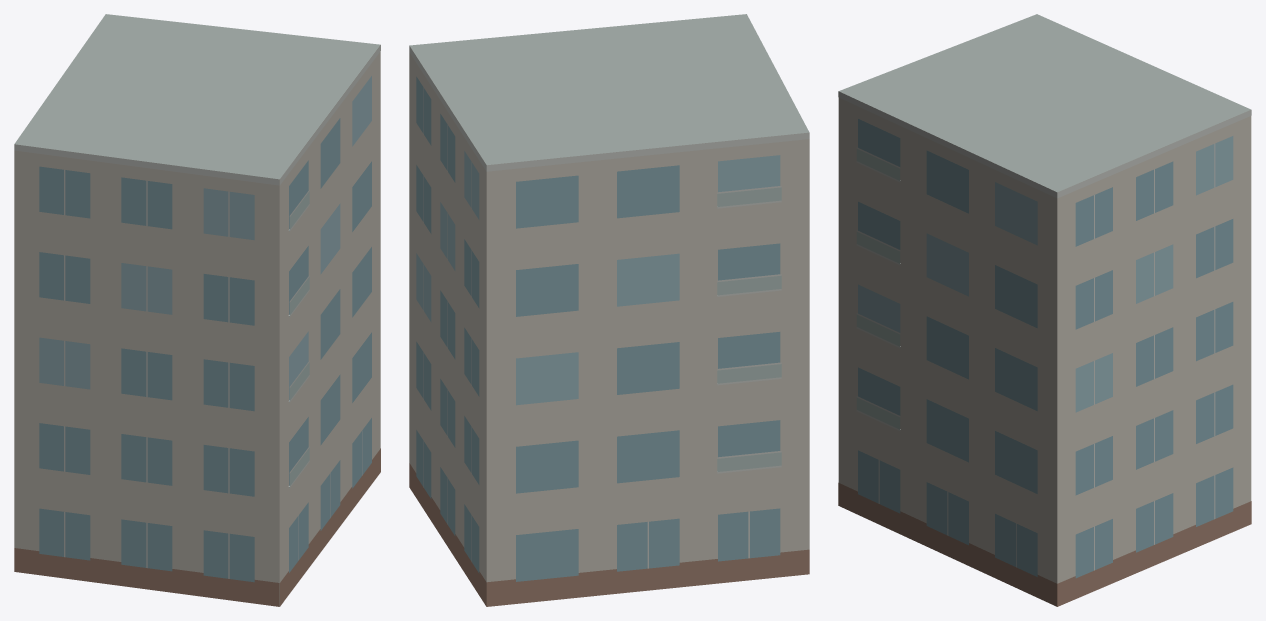
The model's file is survey-upis-32718040.glb.
3 views of the same model, side by side, from view 1: azimuth 30°, elevation 25°; view 2: azimuth 150°, elevation 25°; view 3: azimuth 270°, elevation 25° (orthographic). The views are drawn at different scales.
Parts seen in each view (by area): view 1: survey-upis-32718040.tmp; view 2: survey-upis-32718040.tmp; view 3: survey-upis-32718040.tmp.
Part boxes in pixels (x1=…): survey-upis-32718040.tmp: x1=14, y1=14, x2=380, y2=606; survey-upis-32718040.tmp: x1=409, y1=14, x2=809, y2=606; survey-upis-32718040.tmp: x1=838, y1=14, x2=1251, y2=606.
Size of the model in its own units: 15.33 by 16.6 by 14.99.
